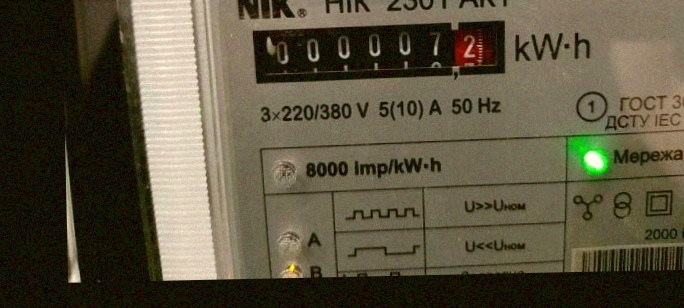0: (334, 32, 353, 60), (304, 35, 322, 63), (273, 38, 291, 65), (396, 28, 413, 56), (366, 30, 382, 57)
2: (461, 31, 478, 60)
7: (426, 28, 443, 58)
screen: (244, 11, 518, 89)
